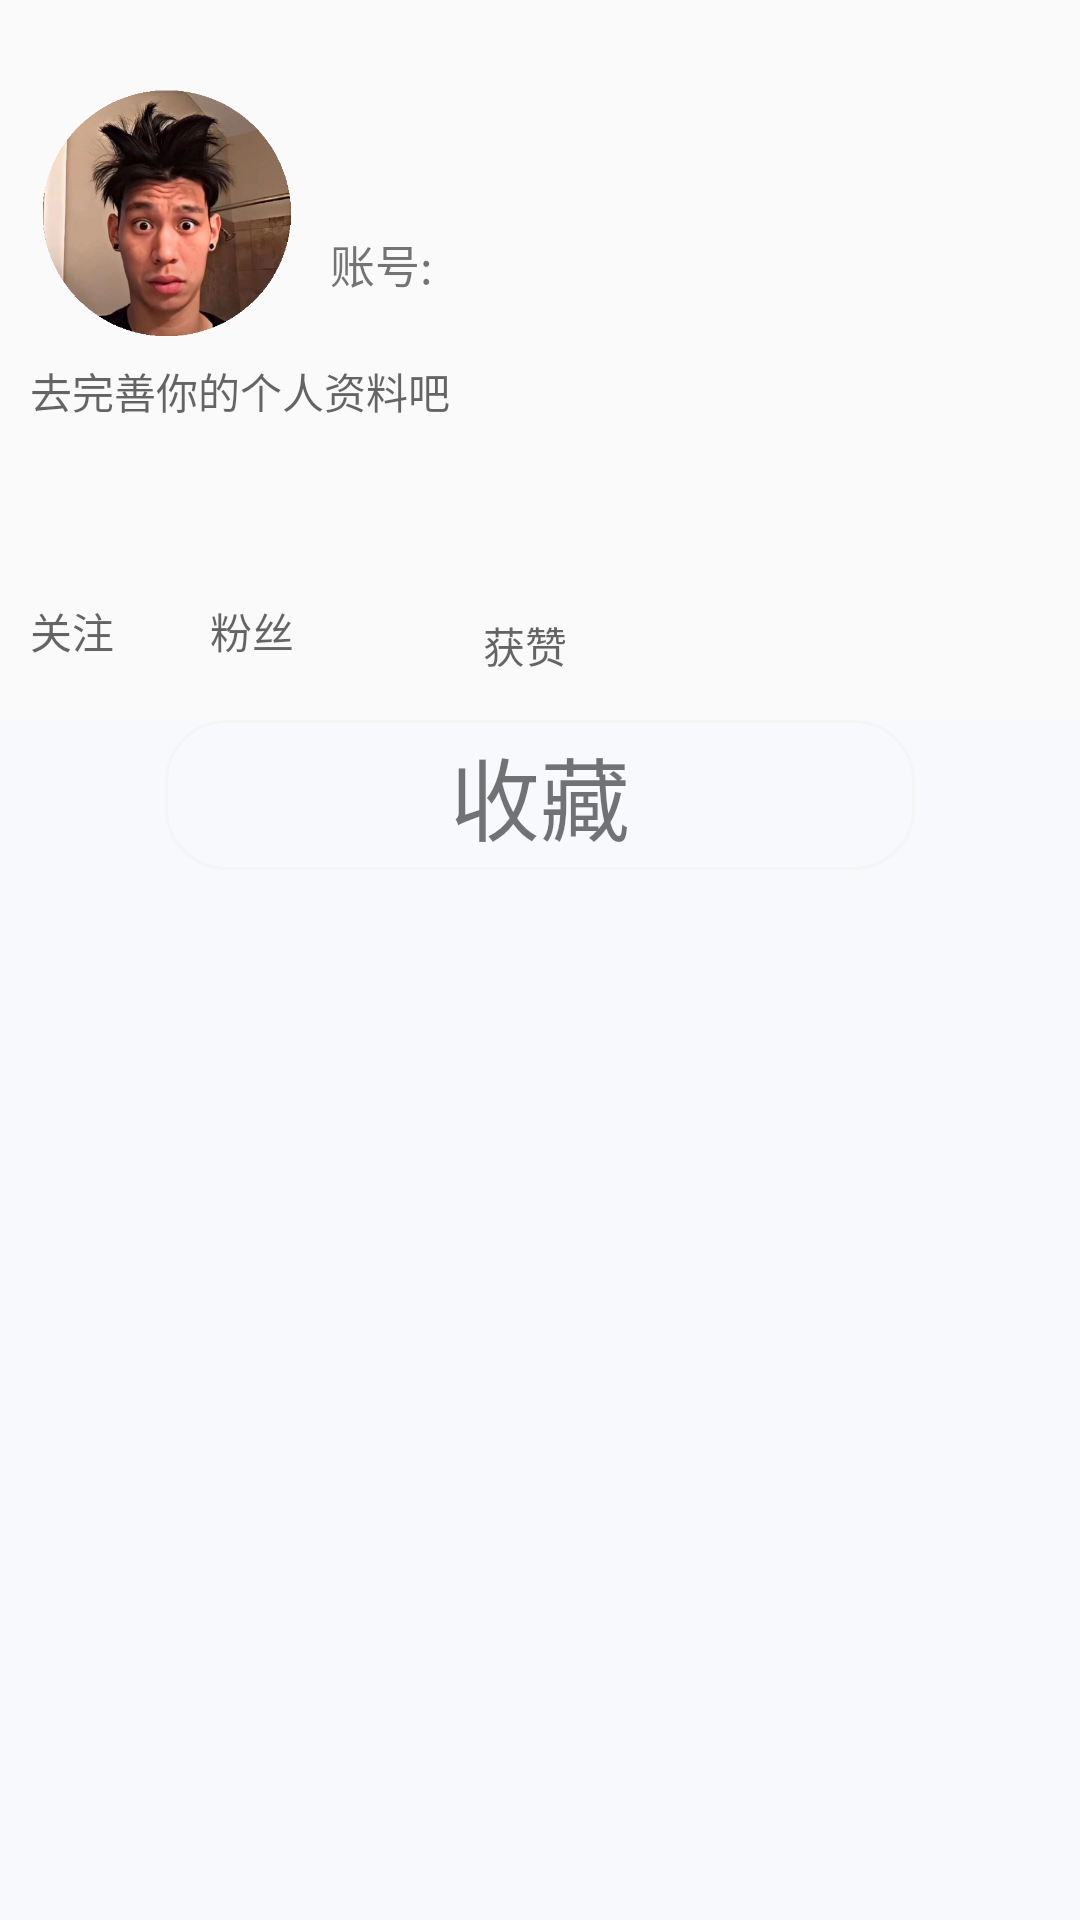

Point at icon controls on the screen. Image size 1080w x 1920h, points as [x,y].
head: [167,213]
